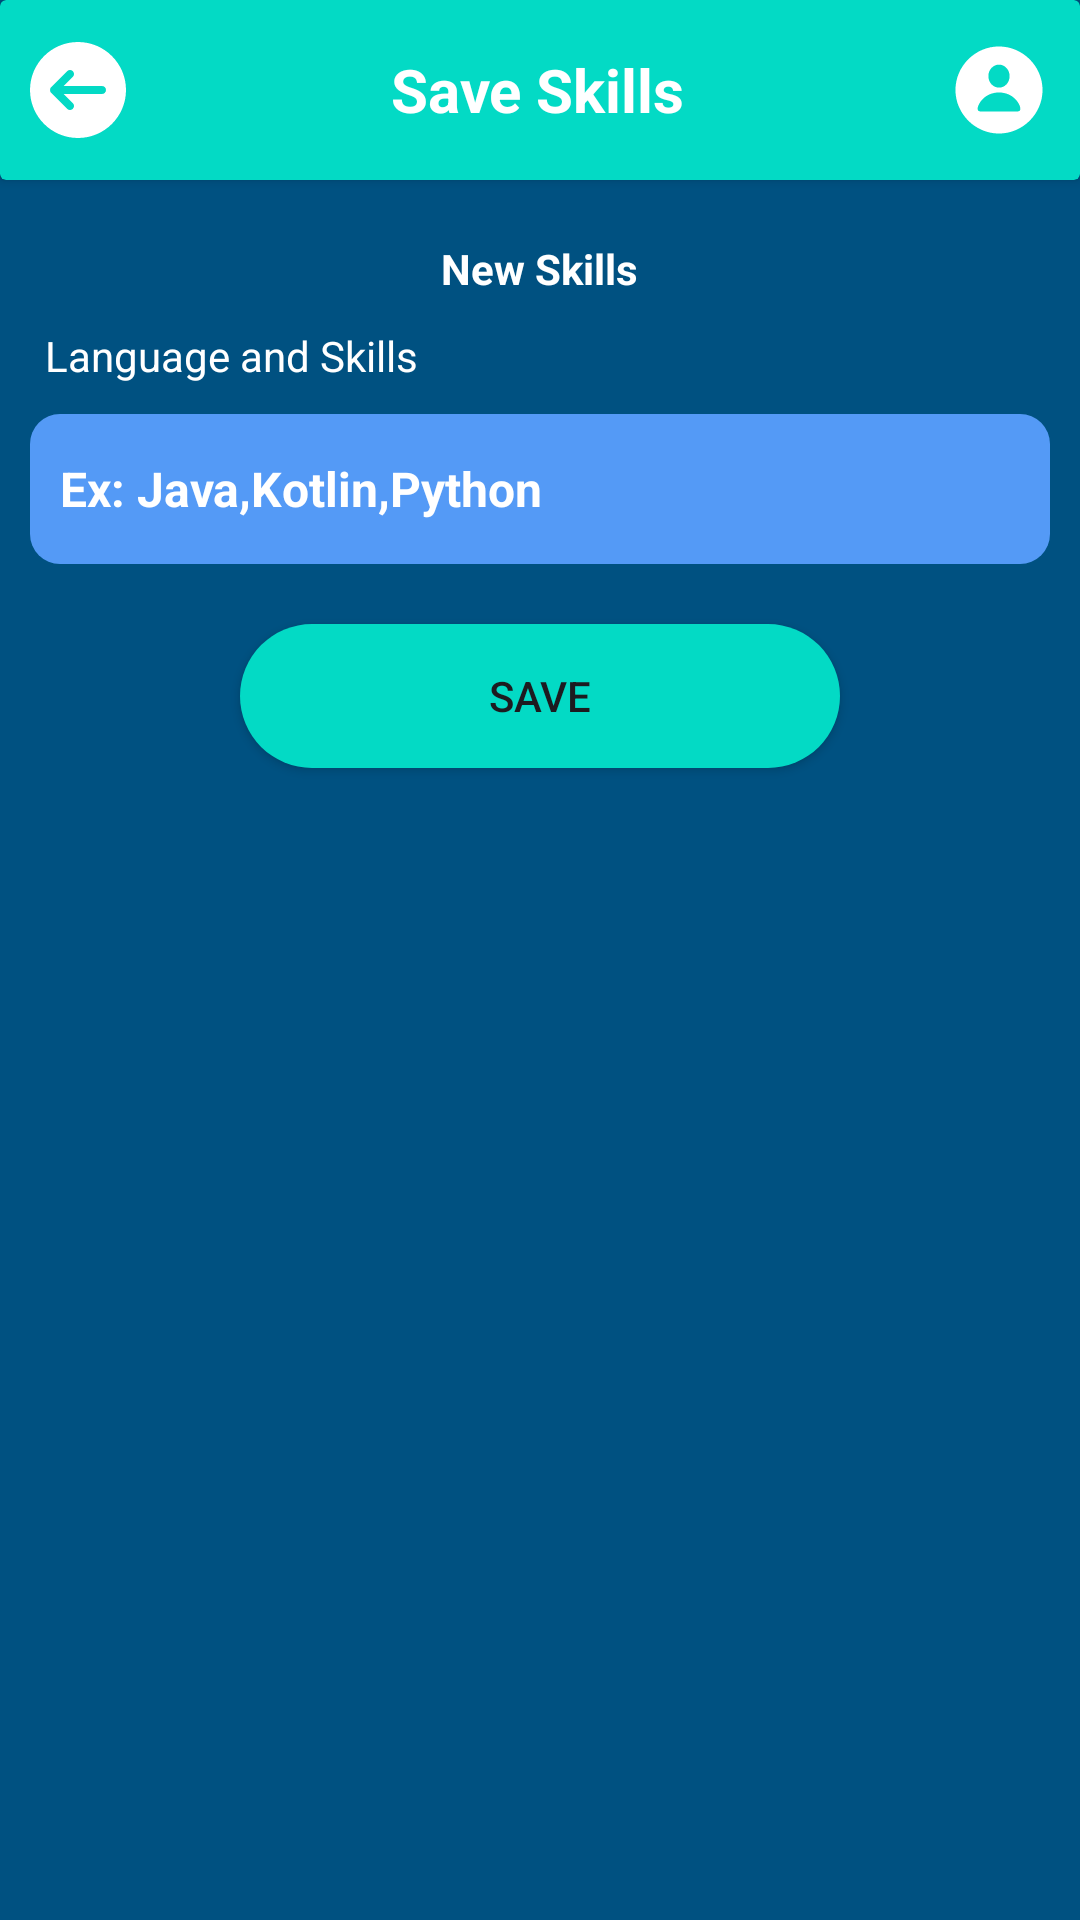

Locate icon controls on the screen. Image size 1080 x 1920, boxes as (x1, y1, x2, y2).
person circle: (955, 46, 1043, 134)
